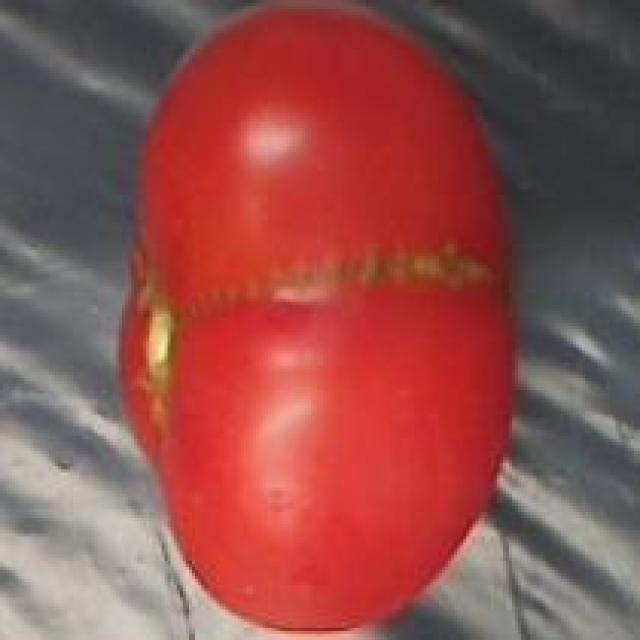overripe tomato: (113, 0, 514, 632)
